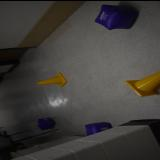cone: (125, 70, 160, 96), (37, 72, 67, 85)
cube: (95, 3, 136, 29), (84, 121, 112, 135), (37, 116, 55, 130)
